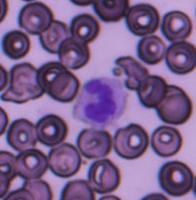N: (74, 75, 128, 129)
